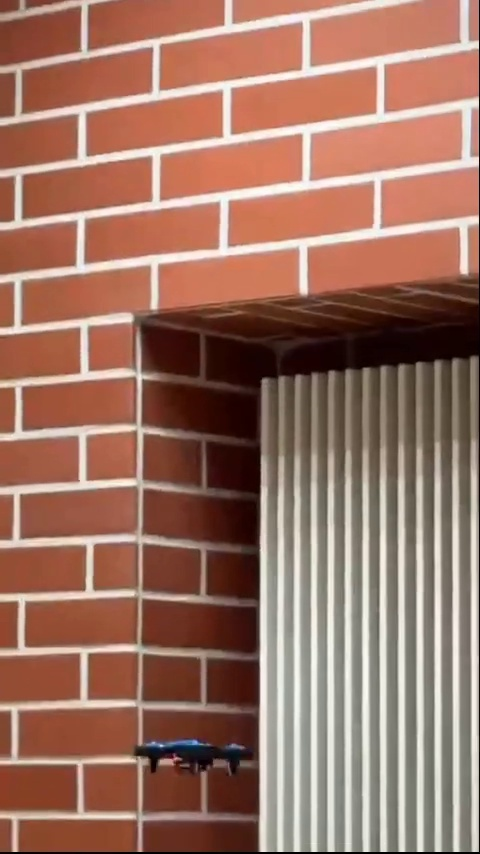drone: (135, 737, 253, 778)
